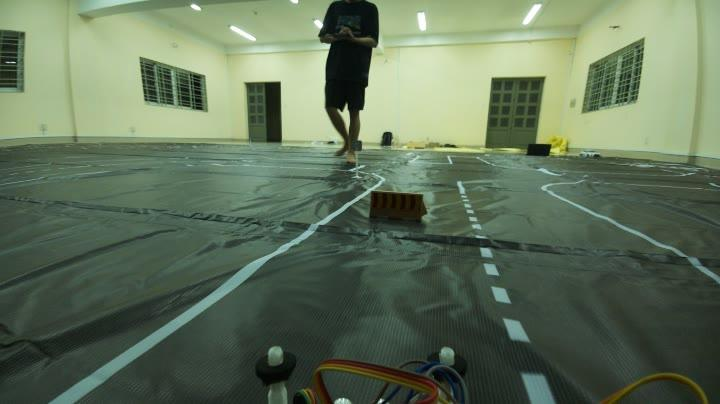roadblock: (364, 185, 430, 229)
